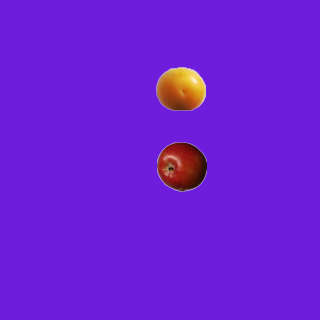Apple Braeburn: (156, 141, 206, 191)
Cherry Wax Yellow: (155, 63, 205, 113)
